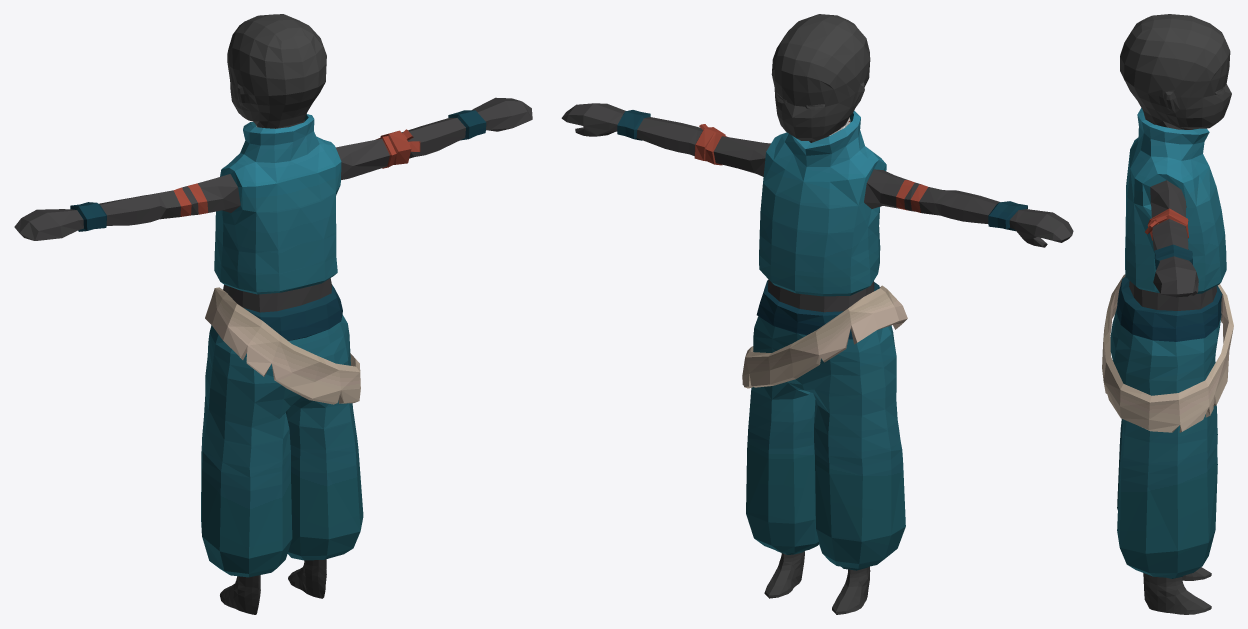
File: CharSkyKid_Body_AP16BlueSeed.glb
3 views of the same model, side by side, from view 1: azimuth 30°, elevation 25°; view 2: azimuth 150°, elevation 25°; view 3: azimuth 270°, elevation 25° (orthographic).
Visible parts, largest first — view 1: CharSkyKid_Body_AP16BlueSeed; view 2: CharSkyKid_Body_AP16BlueSeed; view 3: CharSkyKid_Body_AP16BlueSeed.
Part boxes in pixels (<box>): CharSkyKid_Body_AP16BlueSeed: <box>14,14,532,614</box>; CharSkyKid_Body_AP16BlueSeed: <box>561,14,1073,614</box>; CharSkyKid_Body_AP16BlueSeed: <box>1102,14,1233,614</box>.
Bounding box in the file's own units: 13.83 × 14.93 × 3.11.
Materials: 1 (1 with a texture image).
